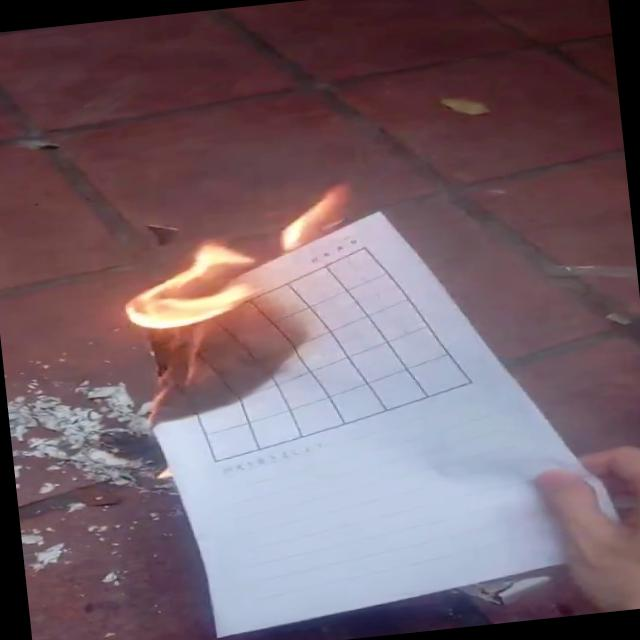Fire_Dangerous: (107, 192, 365, 419)
